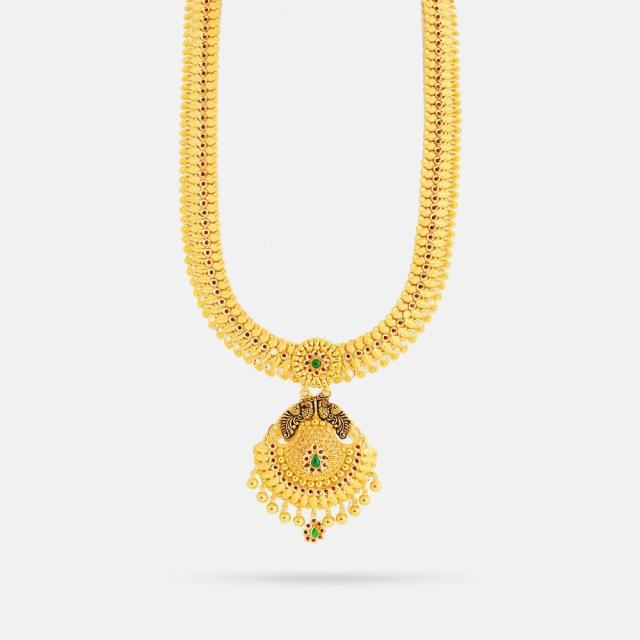missing gem: (404, 311, 410, 318), (271, 349, 276, 354)
